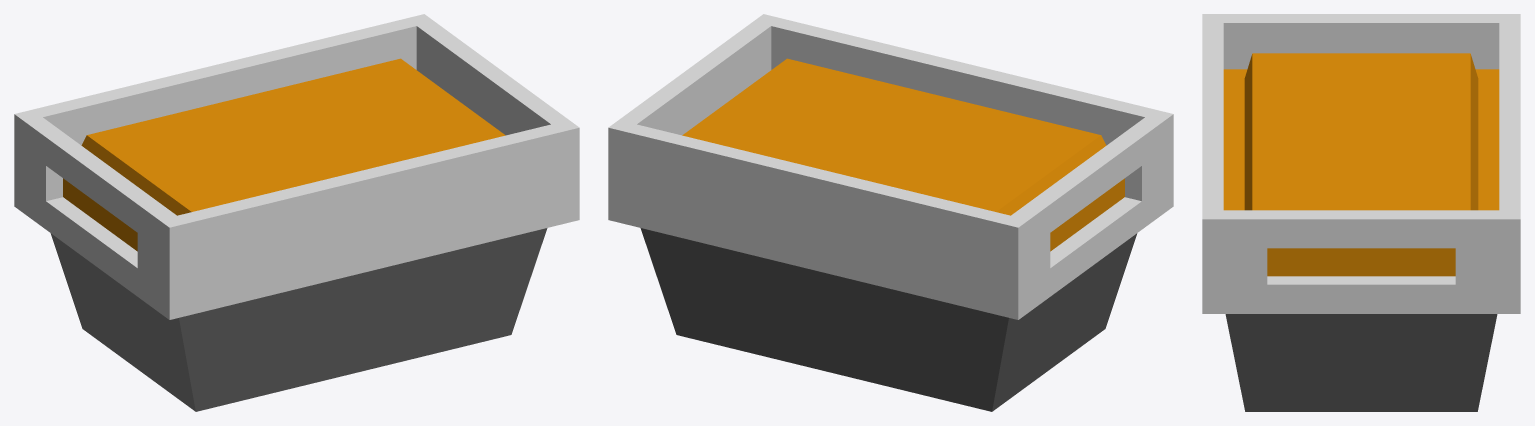
Rendered from basket_layer_2.fbx.
3 renders of one model, left to right at view 1: azimuth 30°, elevation 25°; view 2: azimuth 150°, elevation 25°; view 3: azimuth 270°, elevation 25°, orthographic. The views are drawn at different scales.
Parts seen in each view (by area): view 1: pCube1; view 2: pCube1; view 3: pCube1.
Part boxes in pixels (x1,y1,x2,y2): pCube1: (14,14,579,411); pCube1: (608,14,1173,411); pCube1: (1202,14,1520,411).
Size of the model in its own units: 3.72 by 1.83 by 2.44.
